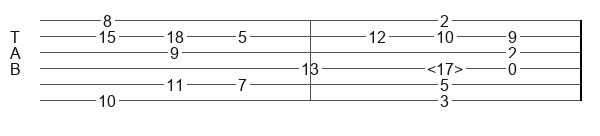0: (508, 60, 521, 76)
10: (98, 92, 120, 108), (436, 28, 458, 44)
11: (166, 76, 188, 92)
12: (368, 28, 390, 44)
13: (301, 60, 323, 76)
15: (98, 28, 120, 44)
18: (166, 28, 188, 44)
2: (440, 12, 453, 28), (508, 44, 521, 60)
3: (440, 92, 453, 108)
5: (238, 28, 251, 44), (440, 76, 453, 92)
7: (238, 76, 251, 92)
8: (103, 12, 116, 28)
9: (170, 44, 183, 60), (508, 28, 521, 44)
harmonic: (427, 60, 467, 76)
